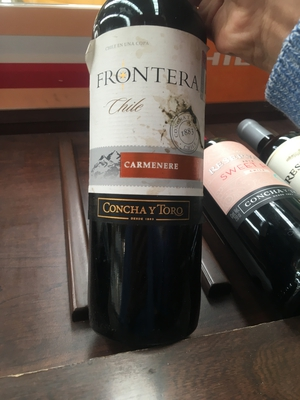frontera carmenere: (71, 4, 224, 323)
